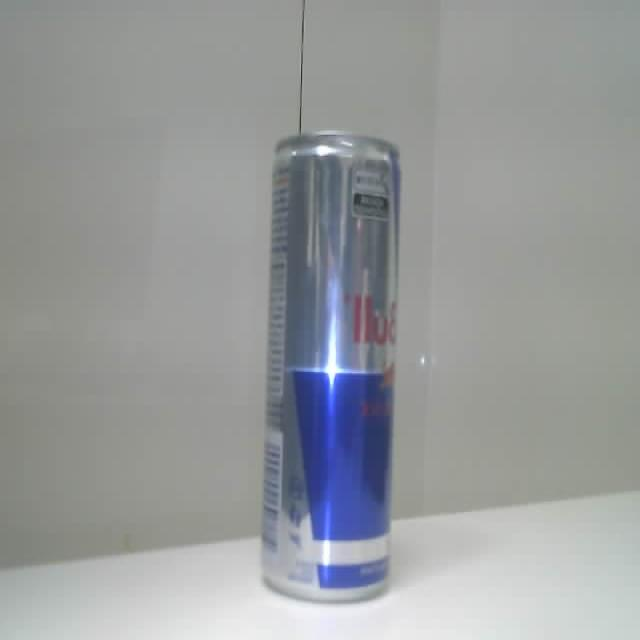redbull can: (262, 132, 399, 599)
